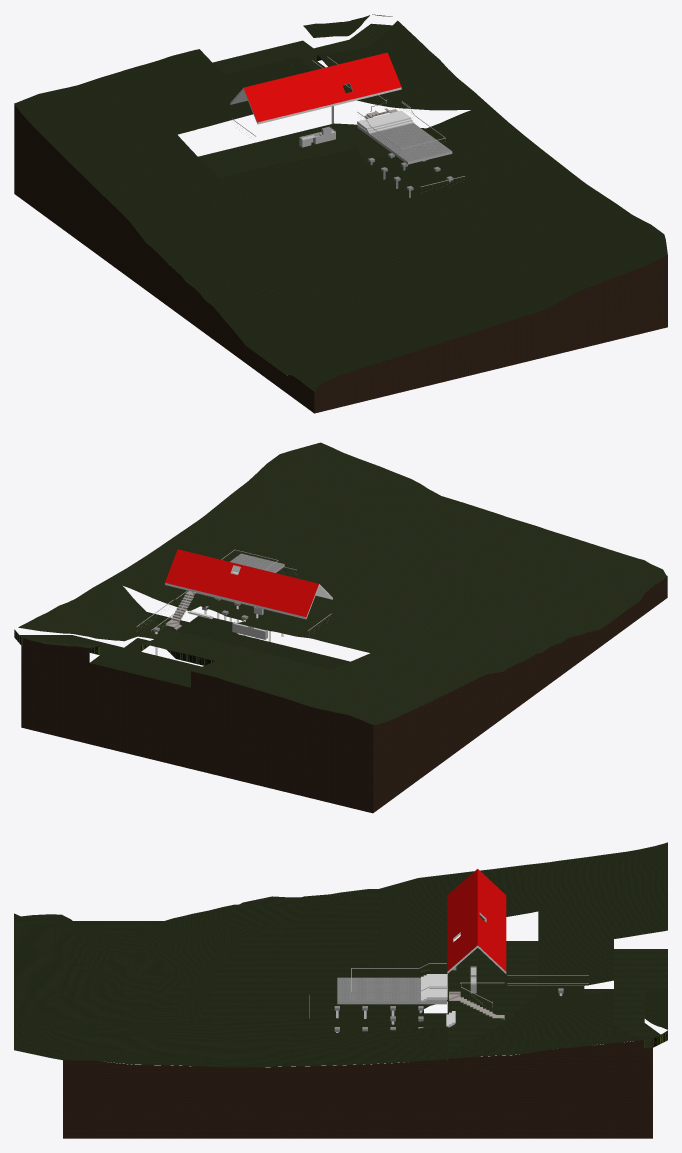
The model's file is rac_basic.glb.
3 views of the same model, one above another, from view 1: azimuth 30°, elevation 25°; view 2: azimuth 150°, elevation 25°; view 3: azimuth 270°, elevation 25° (orthographic). The views are drawn at different scales.
Parts seen in each view (by area): view 1: 表面 (×3), SG Metal Panels roof, Warm Roof - Timber, 楼梯; view 2: 表面 (×3), SG Metal Panels roof, Warm Roof - Timber; view 3: 表面 (×3), SG Metal Panels roof, Warm Roof - Timber, 楼梯.
Part boxes in pixels (x1,y1,x2,y2): 表面 (×3): (14,14,667,413); SG Metal Panels roof: (230,52,401,124); Warm Roof - Timber: (357,123,452,164); 楼梯: (357,110,413,133); 表面 (×3): (14,442,667,813); SG Metal Panels roof: (165,549,332,619); Warm Roof - Timber: (197,553,284,602); 表面 (×3): (14,842,667,1138); SG Metal Panels roof: (447,869,506,973); Warm Roof - Timber: (337,977,446,1004); 楼梯: (421,974,447,1001).
Size of the model in its own units: 50.43 by 17.52 by 70.37.
Materials: 14 (6 with a texture image).
